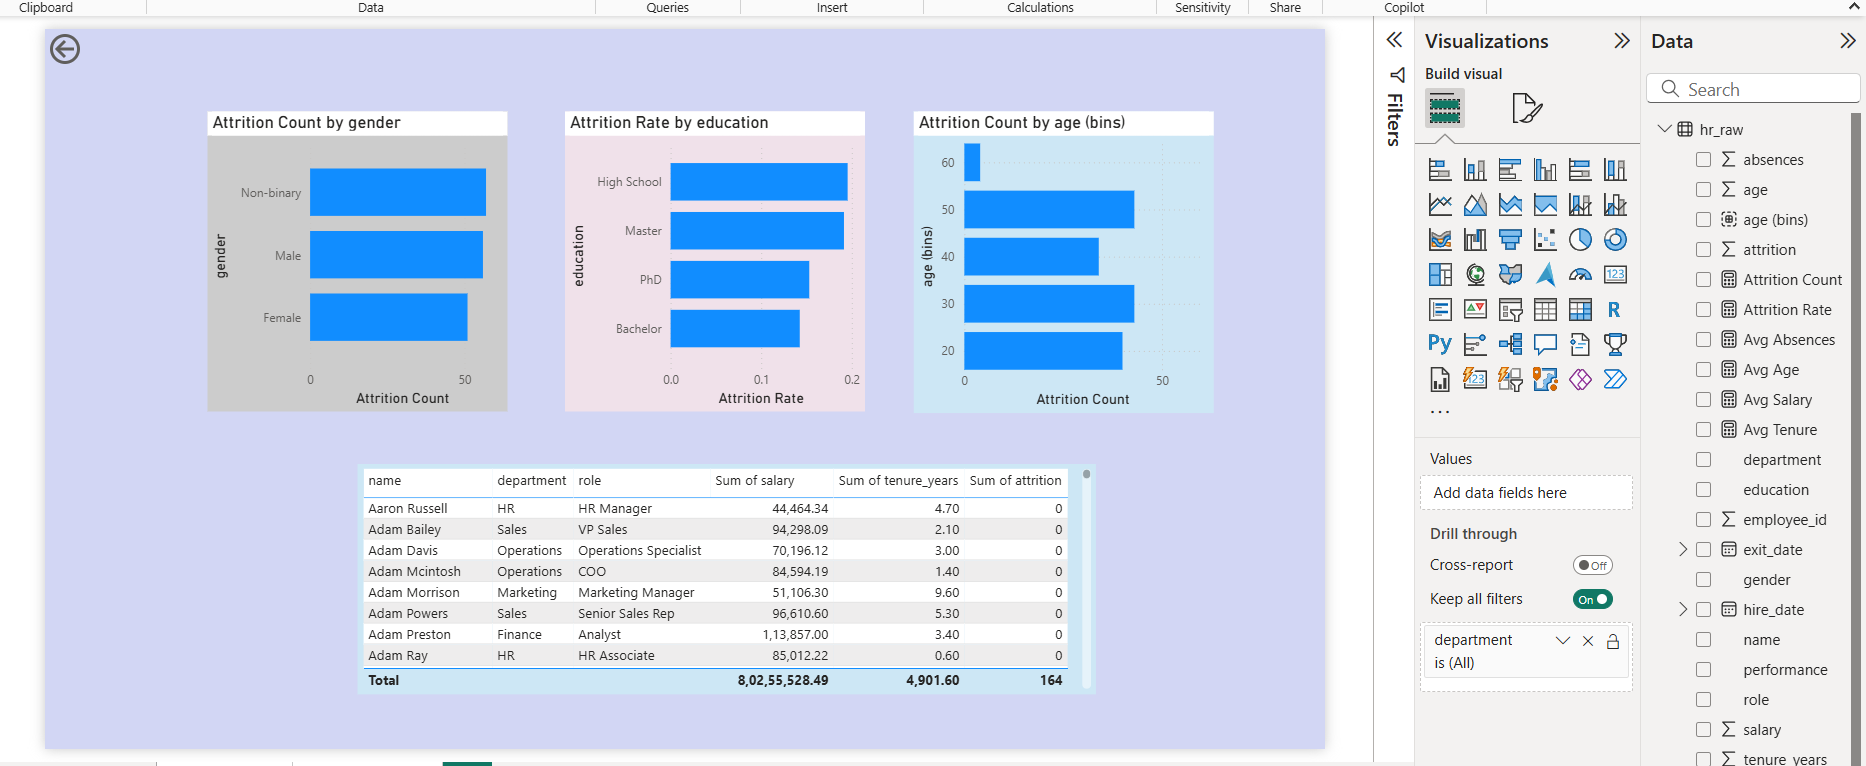

This screenshot's page, from the dashboard's own definition file:
{"tool":"powerbi","page":{"name":"attrition Detail","canvas":[1280,720],"ordinal":1},"visuals":[{"type":"actionButton","box":[10,0,100,40],"z":0},{"type":"clusteredBarChart","fields":{"Category":["hr_raw.gender"],"Y":["hr_raw.Attrition Count"]},"box":[162.5,82.5,300,300],"z":1000},{"type":"clusteredBarChart","fields":{"Category":["hr_raw.education"],"Y":["hr_raw.Attrition Rate"]},"box":[520,82.5,300,300],"z":2000},{"type":"clusteredBarChart","fields":{"Y":["hr_raw.Attrition Count"],"Category":["hr_raw.age (bins)"]},"box":[868.8,82.5,300,301.2],"z":3000},{"type":"tableEx","fields":{"Values":["hr_raw.name","hr_raw.department","hr_raw.role","Sum(hr_raw.salary)","Sum(hr_raw.tenure_years)","Sum(hr_raw.attrition)"]},"box":[312.5,435,738.8,230],"z":4000},{"type":"pageNavigator","box":[370,0,600,50],"z":5000}]}

Visuals, with their boxes on the page's 1280x720 design canvas (x1, y1, x2, y2). These are canvas units, not pixel positions in the 1866x766 screenshot, which may show the page scaled, cropped or inside an application window:
actionButton: left=10, top=0, right=110, bottom=40
clusteredBarChart - hr_raw.gender x hr_raw.Attrition Count: left=162, top=82, right=462, bottom=382
clusteredBarChart - hr_raw.education x hr_raw.Attrition Rate: left=520, top=82, right=820, bottom=382
clusteredBarChart - hr_raw.Attrition Count x hr_raw.age (bins): left=869, top=82, right=1169, bottom=384
tableEx - hr_raw.name x hr_raw.department: left=312, top=435, right=1051, bottom=665
pageNavigator: left=370, top=0, right=970, bottom=50
